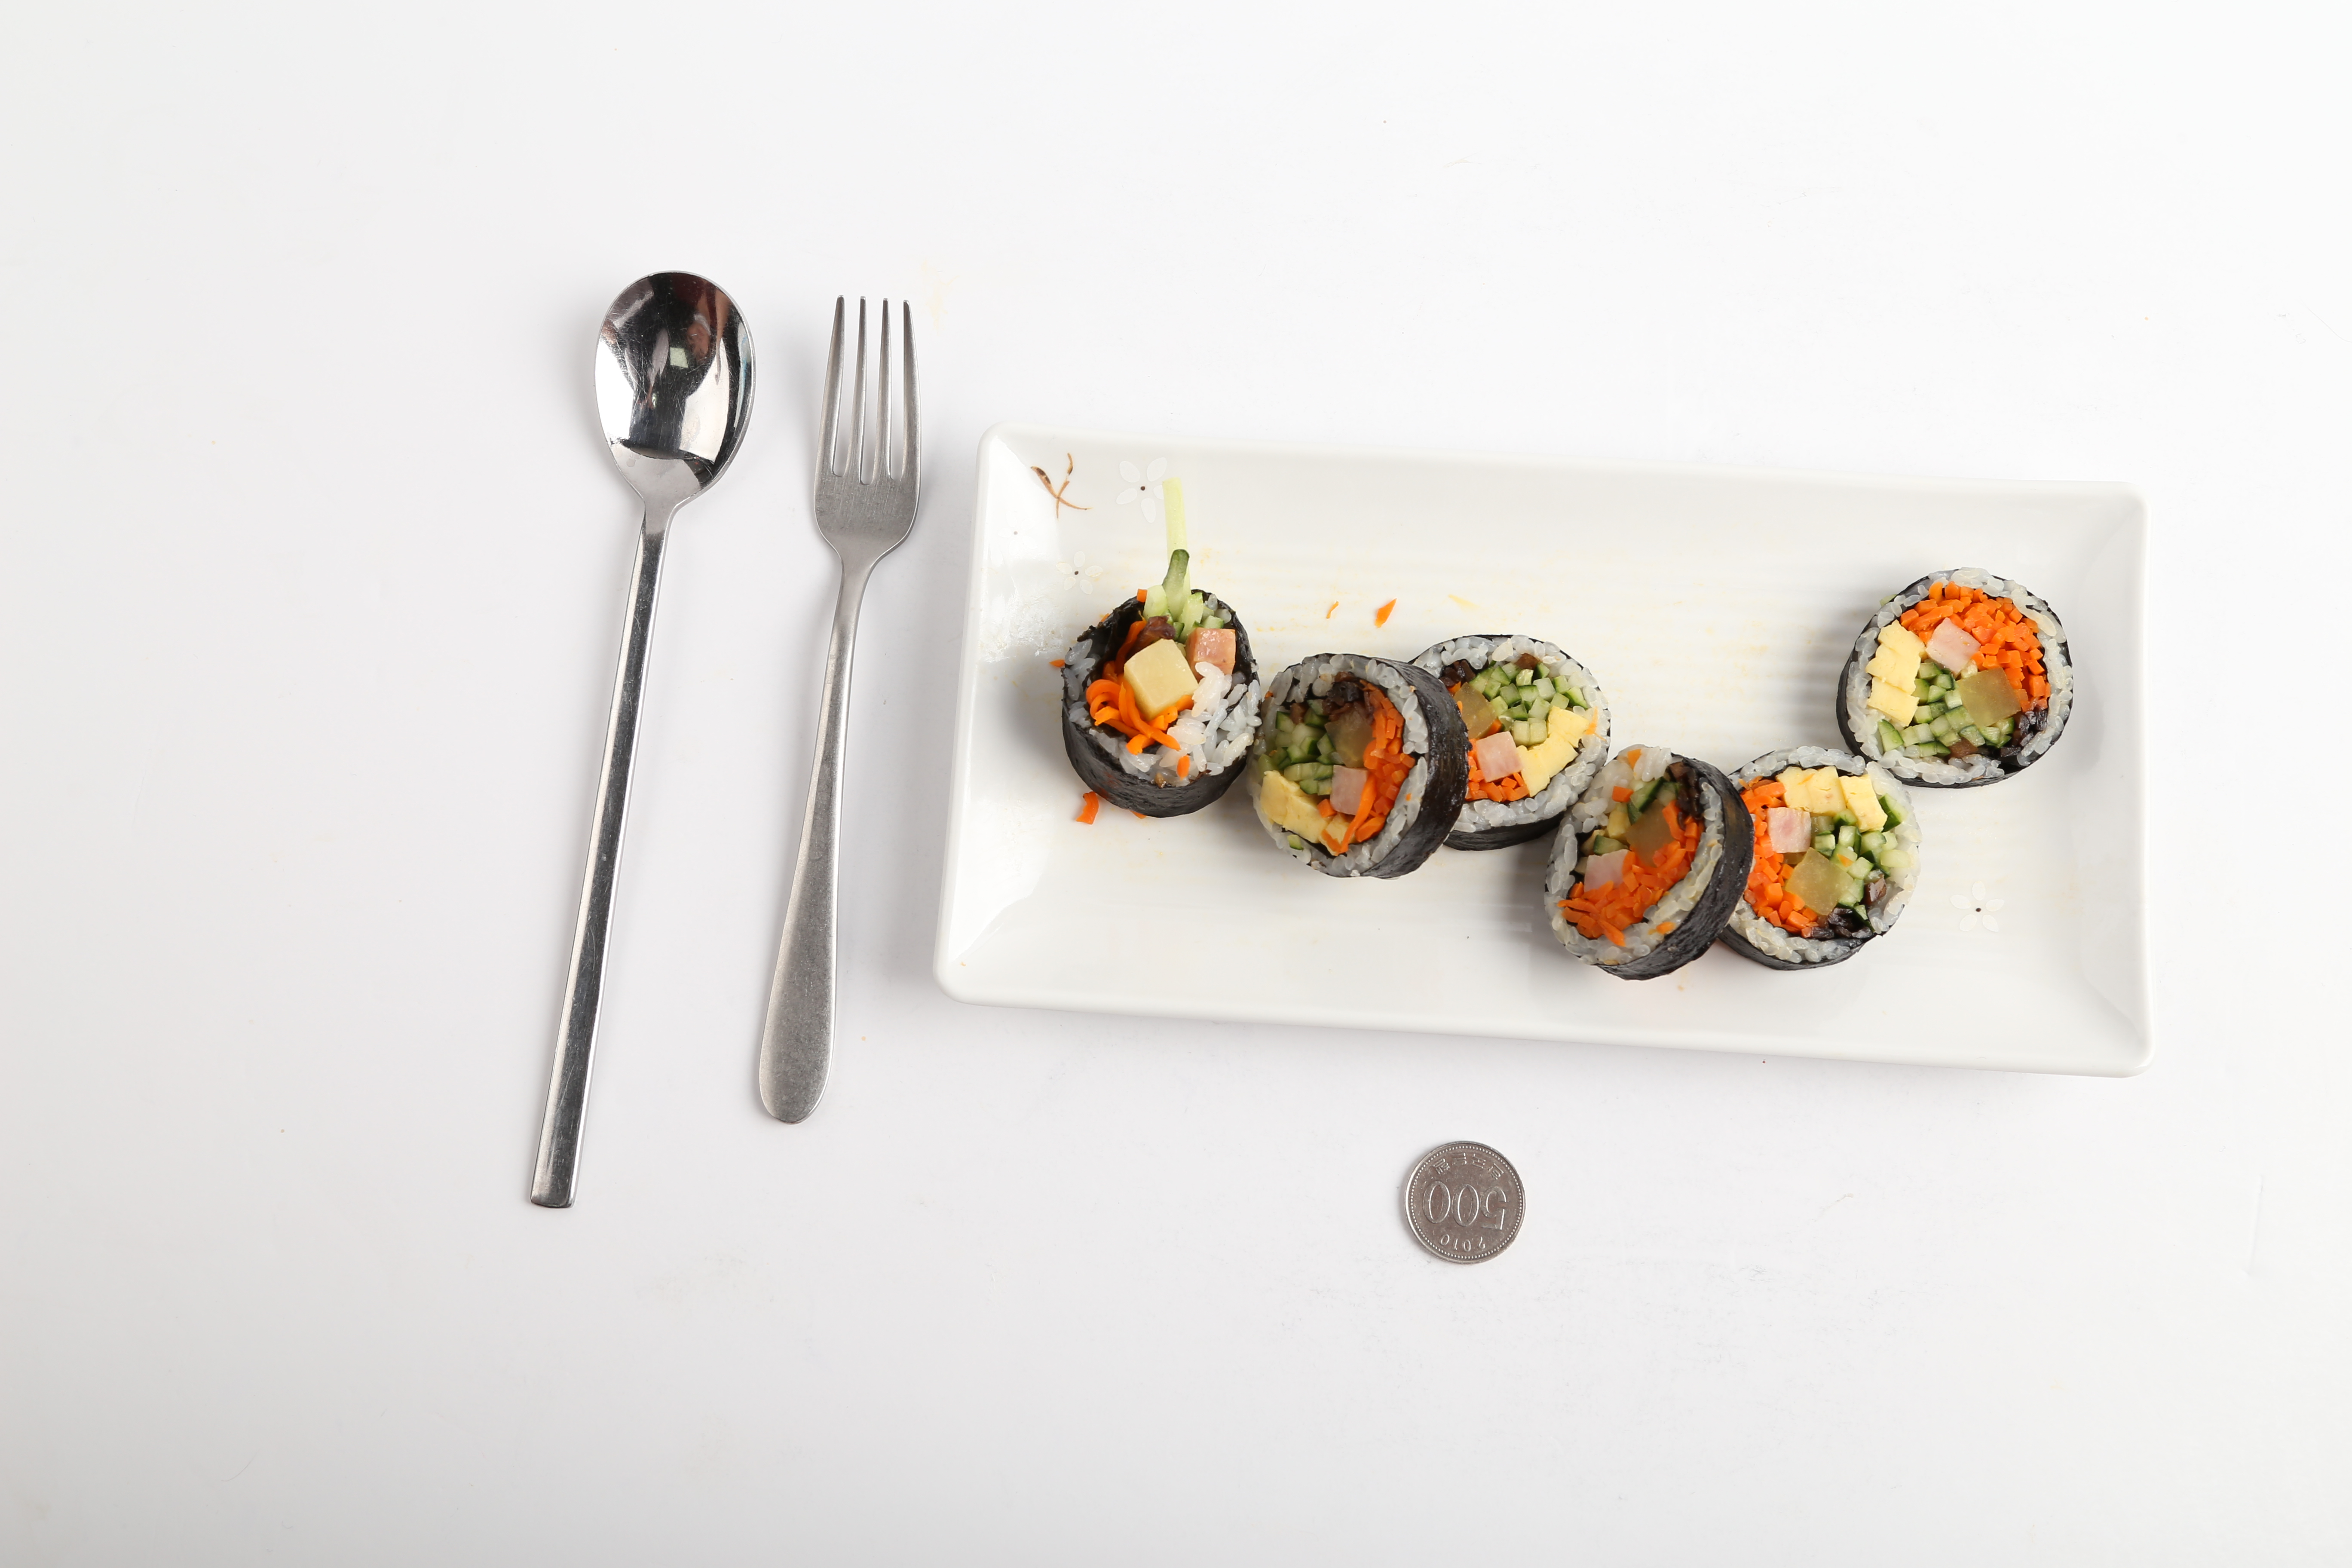dish: (948, 425, 2154, 1078)
ref_coin: (1391, 1136, 1528, 1270)
ref_fork: (808, 292, 926, 602)
ref_spoon: (588, 266, 759, 544)
김밥: (1053, 558, 2077, 982)
